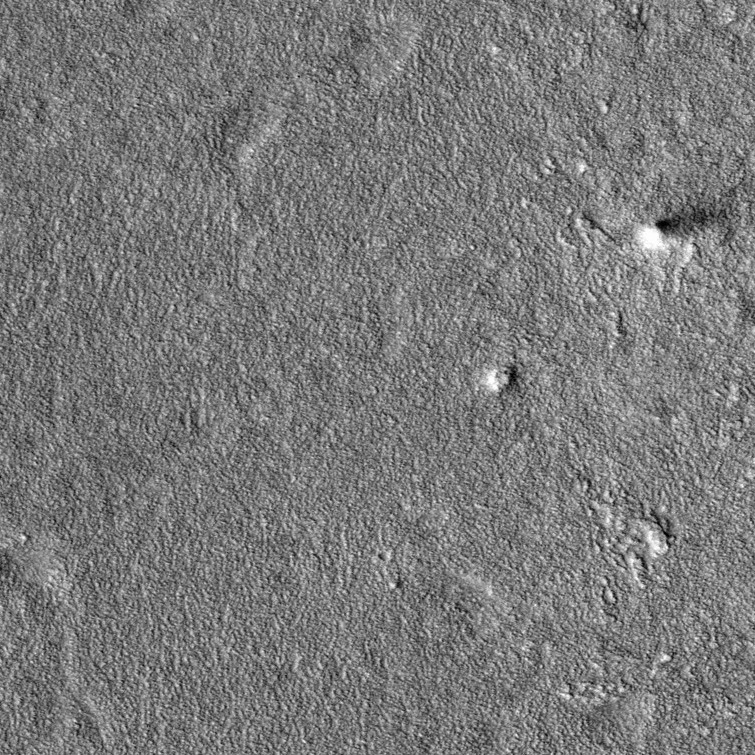dust_devil: (630, 200, 747, 256)
